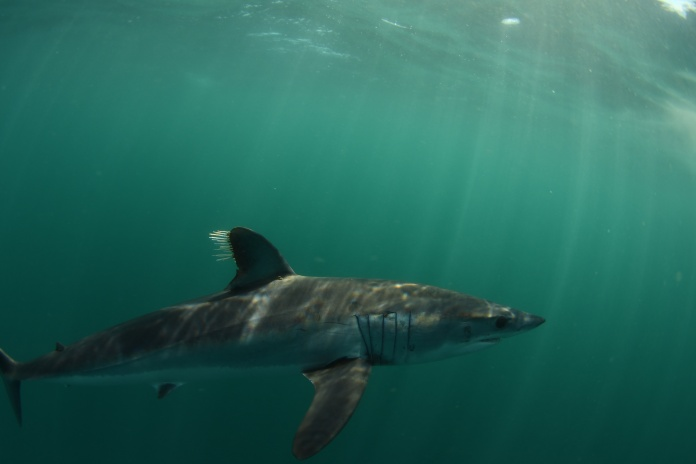Mako: (1, 224, 553, 460)
